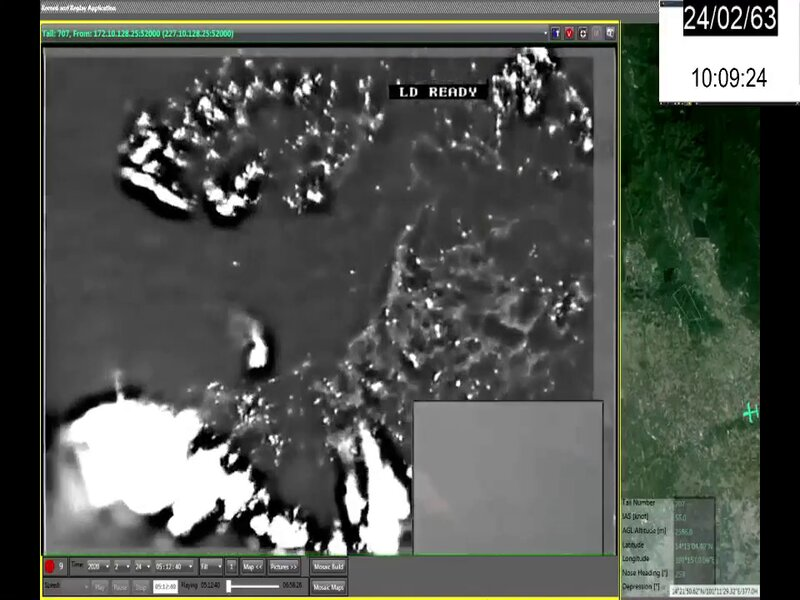Fire: (65, 386, 410, 556)
